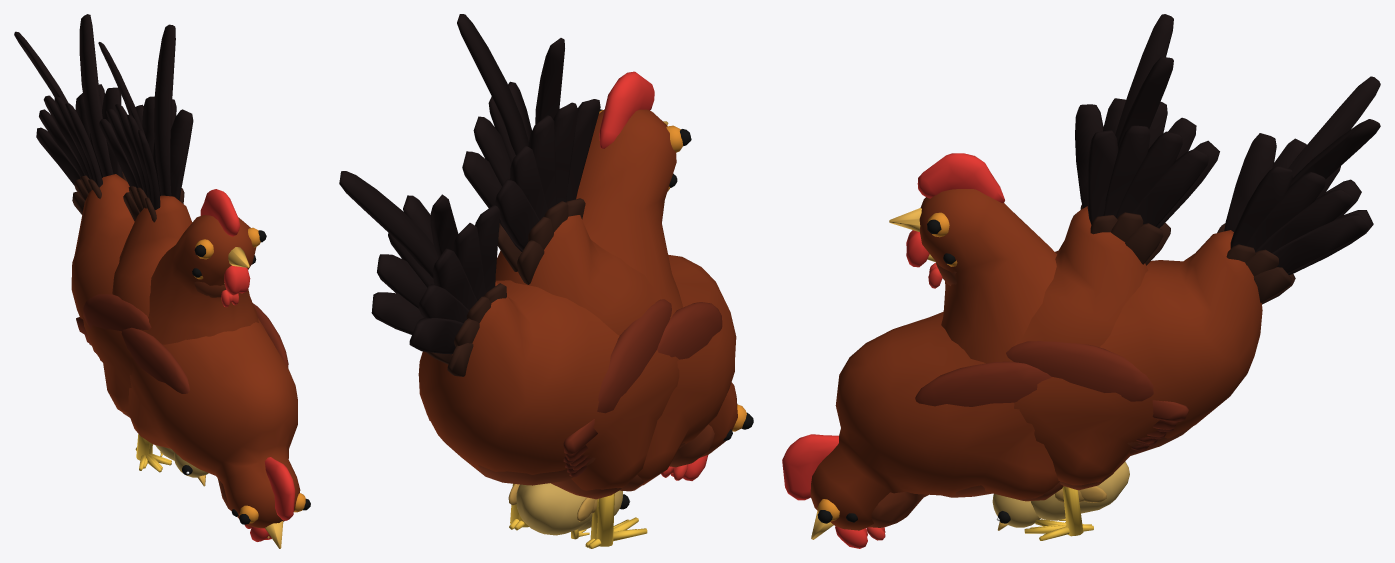
The model's file is birds.glb.
The picture shows the model from 3 angles, left to right: view 1: azimuth 30°, elevation 25°; view 2: azimuth 150°, elevation 25°; view 3: azimuth 270°, elevation 25°; orthographic projection. The views are drawn at different scales.
Parts seen in each view (by area): view 1: rooster_peck, rooster_stand, hen_stand, hen_peck, chick_peck; view 2: rooster_stand, rooster_peck, hen_stand, hen_peck, chick_stand; view 3: rooster_stand, rooster_peck, hen_peck, hen_stand, chick_peck, chick_stand.
Part boxes in pixels (x1,y1,x2,y2): rooster_peck: (98,24,310,548); rooster_stand: (14,14,266,472); hen_stand: (72,171,256,469); hen_peck: (123,186,269,538); chick_peck: (155,445,208,486); rooster_stand: (339,71,691,548); rooster_peck: (457,14,753,485); hen_stand: (426,173,677,547); hen_peck: (498,198,732,491); chick_stand: (508,483,595,539); rooster_stand: (889,76,1380,540); rooster_peck: (782,14,1219,548); hen_peck: (846,205,1170,540); hen_stand: (927,223,1295,535); chick_peck: (992,488,1083,530); chick_stand: (1059,462,1129,522).
Bounding box in the file's own units: 0.2608 × 0.8129 × 0.8651.
